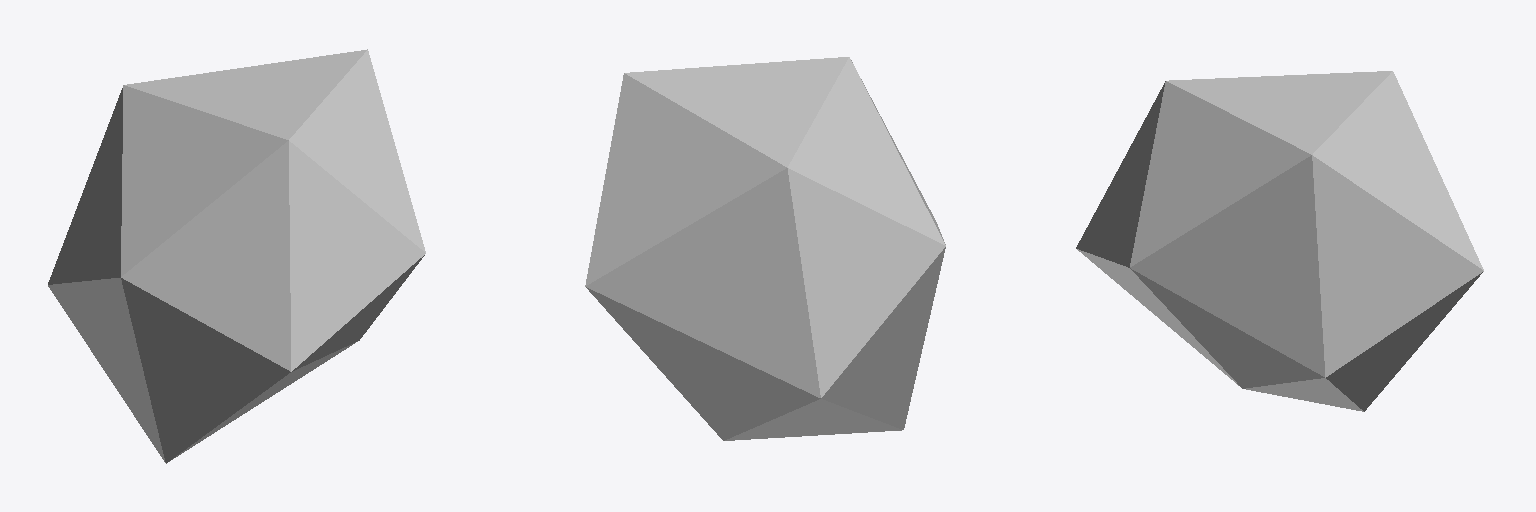
The model's file is stone.obj.
The picture shows the model from 3 angles: view 1: azimuth 30°, elevation 25°; view 2: azimuth 150°, elevation 25°; view 3: azimuth 270°, elevation 25°; orthographic projection.
Parts seen in each view (by area): view 1: polySurface76; view 2: polySurface76; view 3: polySurface76.
Part boxes in pixels (left/top/right/bottom): polySurface76: left=48, top=49, right=425, bottom=463; polySurface76: left=585, top=57, right=945, bottom=440; polySurface76: left=1076, top=71, right=1483, bottom=411.
Bounding box in the file's own units: 0.46 × 0.4588 × 0.5192.